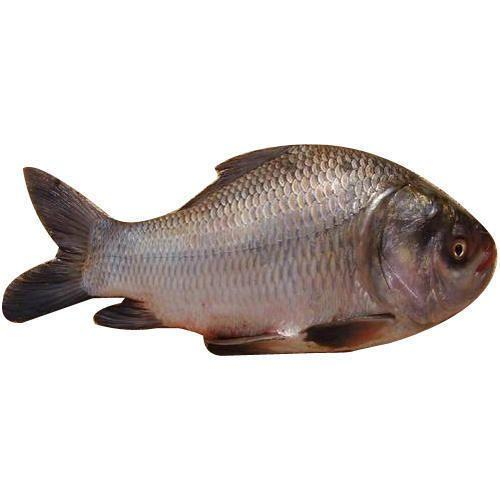Indian Carp: (0, 147, 495, 355)
